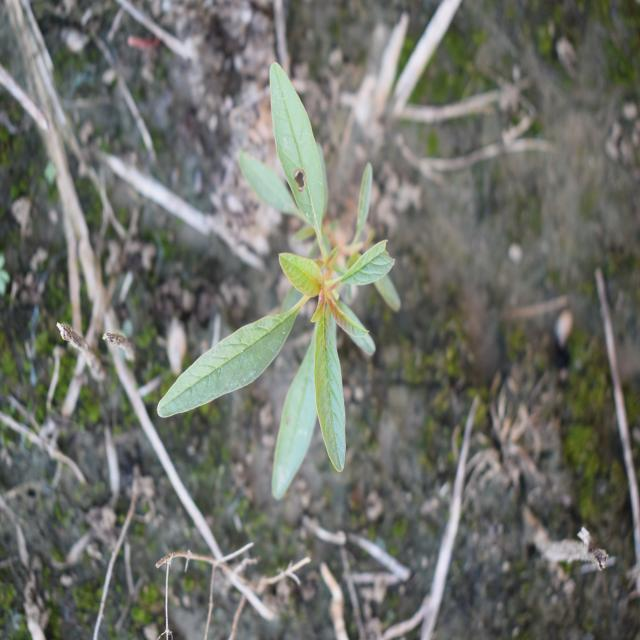Waterhemp: (155, 60, 403, 502)
